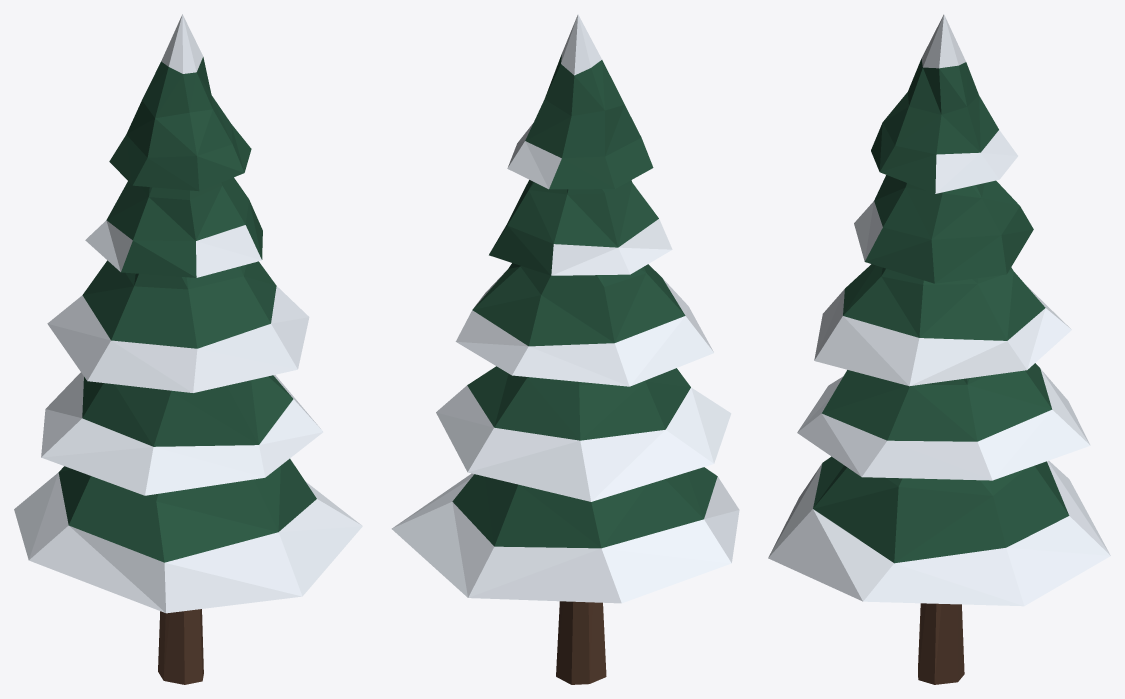
File: pine_tall.obj
3 renders of one model, left to right at view 1: azimuth 30°, elevation 25°; view 2: azimuth 150°, elevation 25°; view 3: azimuth 270°, elevation 25°, orthographic.
Visible parts, largest first — view 1: pine_tall; view 2: pine_tall; view 3: pine_tall.
Boxes of the visible parts, left/top/right/bottom form: pine_tall: left=14, top=14, right=362, bottom=684; pine_tall: left=391, top=14, right=739, bottom=684; pine_tall: left=768, top=14, right=1110, bottom=684.
Bounding box in the file's own units: 9.18 × 19.36 × 9.08.
Materials: 1 (1 with a texture image).
